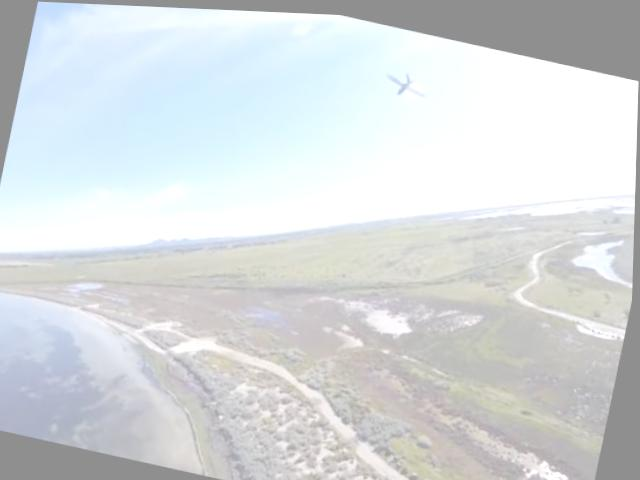uav: (378, 62, 431, 102)
